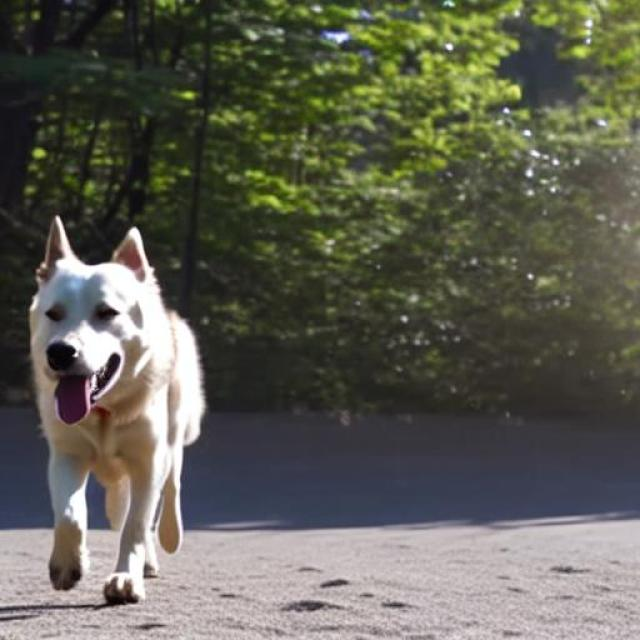Dog: (31, 215, 206, 602)
